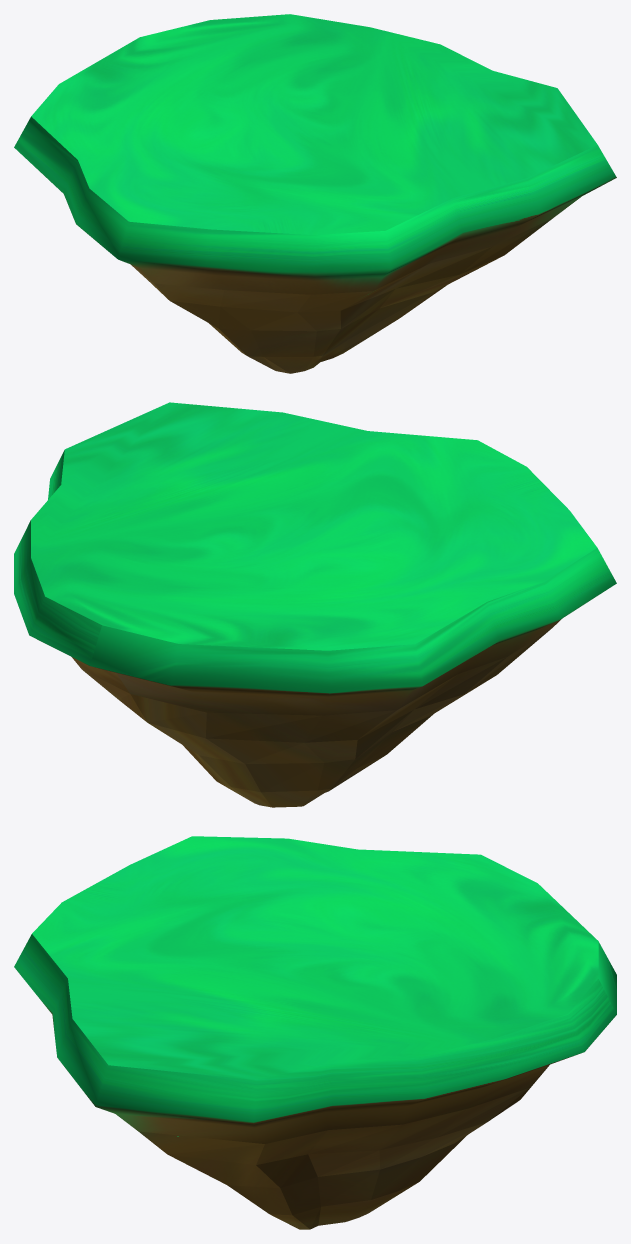
File: island.FBX
3 renders of one model, top to bottom at view 1: azimuth 30°, elevation 25°; view 2: azimuth 150°, elevation 25°; view 3: azimuth 270°, elevation 25°, orthographic. The views are drawn at different scales.
Parts seen in each view (by area): view 1: Cylinder001; view 2: Cylinder001; view 3: Cylinder001.
Part boxes in pixels (x1,y1,x2,y2): Cylinder001: (14,14,616,373); Cylinder001: (14,402,616,807); Cylinder001: (14,836,616,1229).
Size of the model in its own units: 2409 by 1096 by 2365.
1 material, 1 textured.
